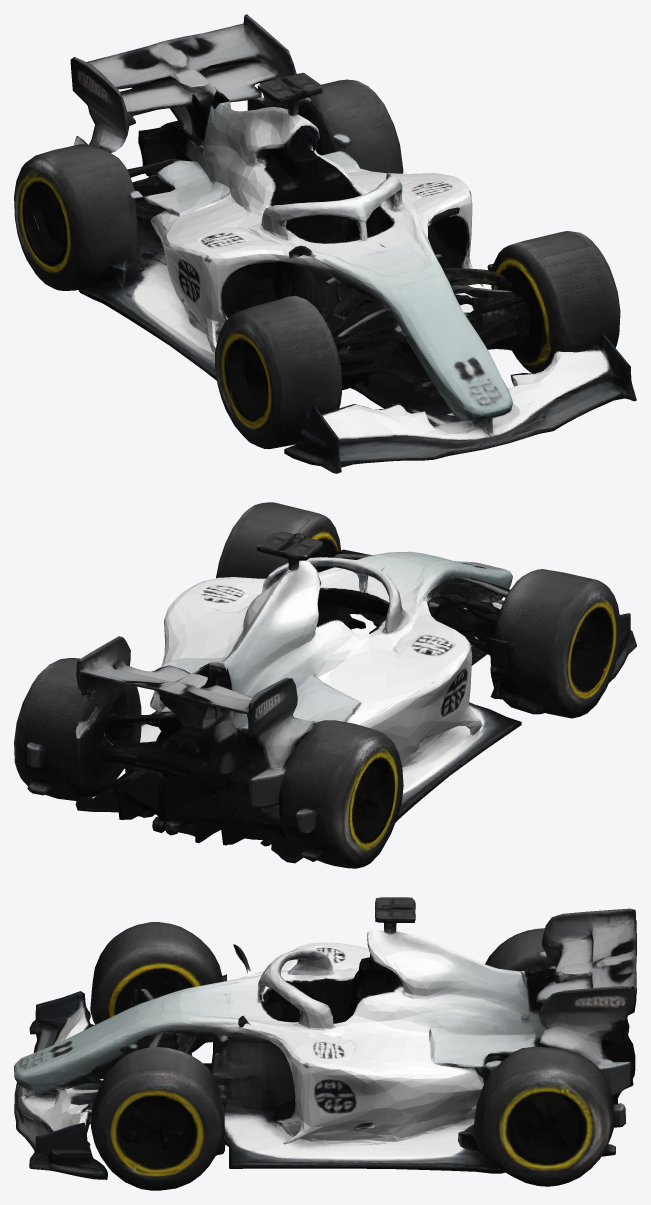
The picture shows the model from 3 angles, top to bottom: view 1: azimuth 30°, elevation 25°; view 2: azimuth 150°, elevation 25°; view 3: azimuth 270°, elevation 25°; orthographic projection. The views are drawn at different scales.
Parts seen in each view (by area): view 1: world; view 2: world; view 3: world.
Boxes of the visible parts, x1,y1,x2,y2 form: world: [14, 14, 636, 473]; world: [14, 502, 636, 868]; world: [14, 897, 636, 1190].
Bounding box in the file's own units: 0.6017 × 0.3786 × 1.
1 material, 1 textured.
